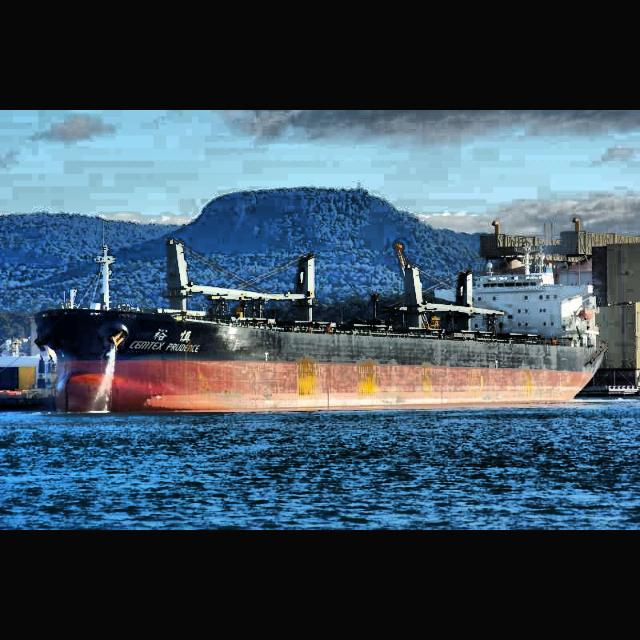bulk_carrier: (32, 238, 608, 414)
